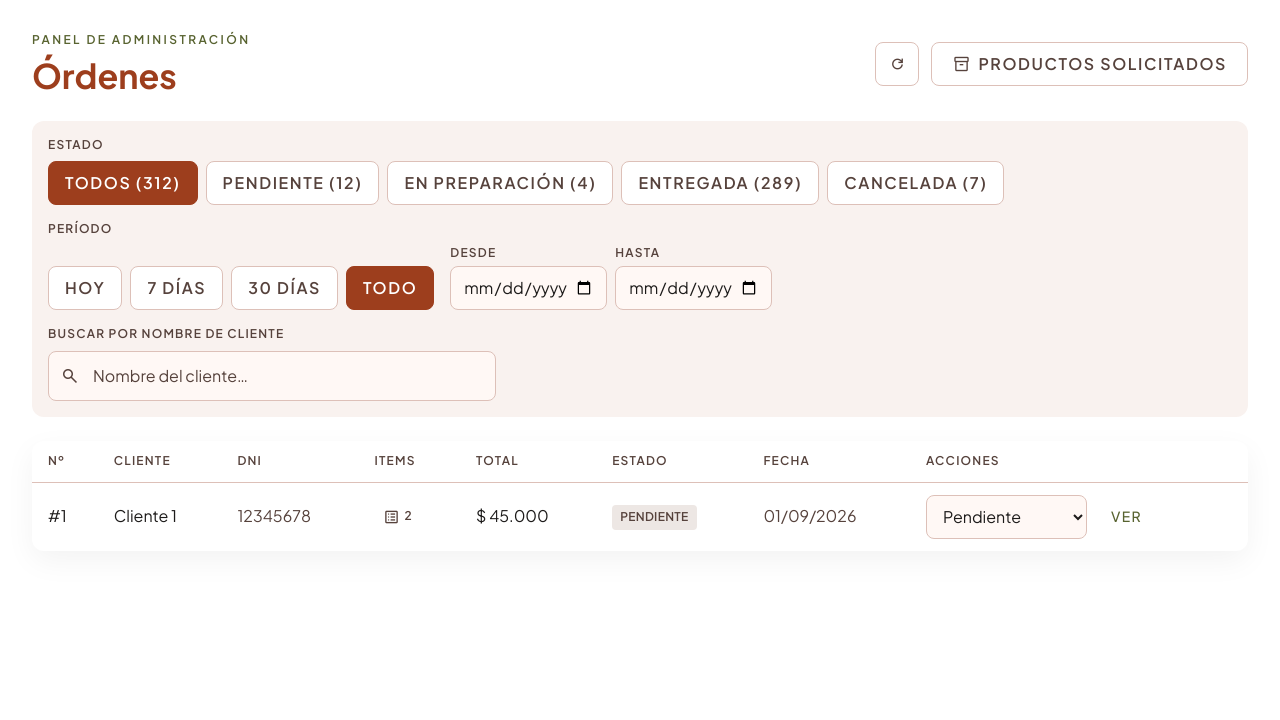
Test: AdminOrdenes — cambio de estado desde la fila › la respuesta del PATCH NO le borra el monto ni el resumen a la fila
Expected: the heading "Órdenes" is shown, [32,54,177,97]
Select "Entregada" in the dropdown named "Cambiar estado de la orden #1" at x=1006, y=516, box [926,494,1087,538]
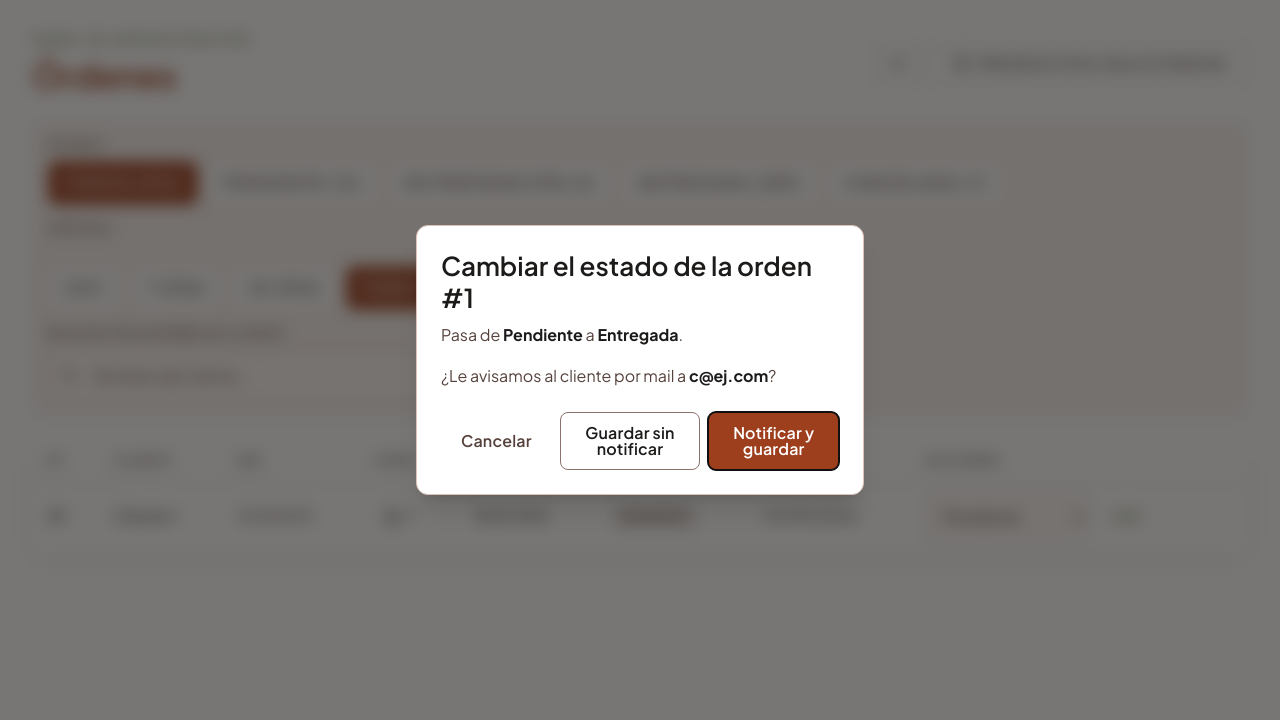
Click the button "Guardar sin notificar" at x=630, y=441, box [560,412,700,470]
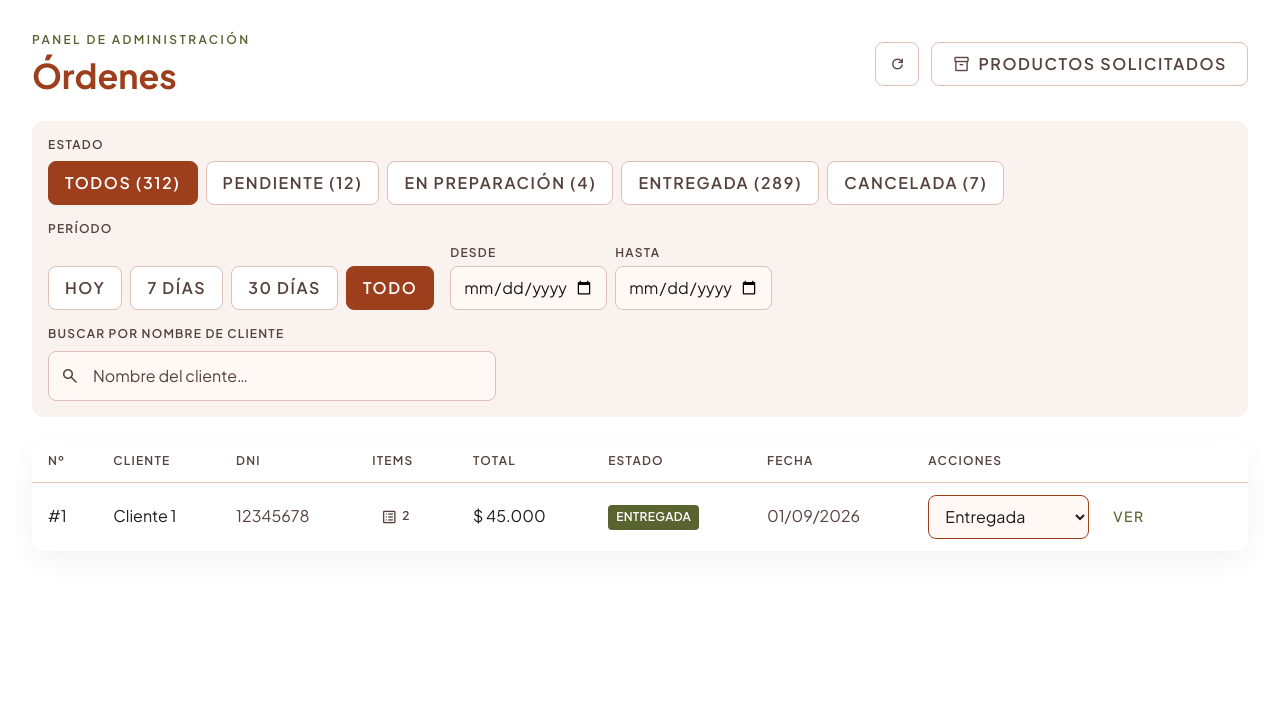
Expected: the text "$ 45.000" is shown, [457,482,592,550]
Now the dialog is gone
Click the button named "productos de la orden #1" at x=395, y=516, box [372,494,418,538]
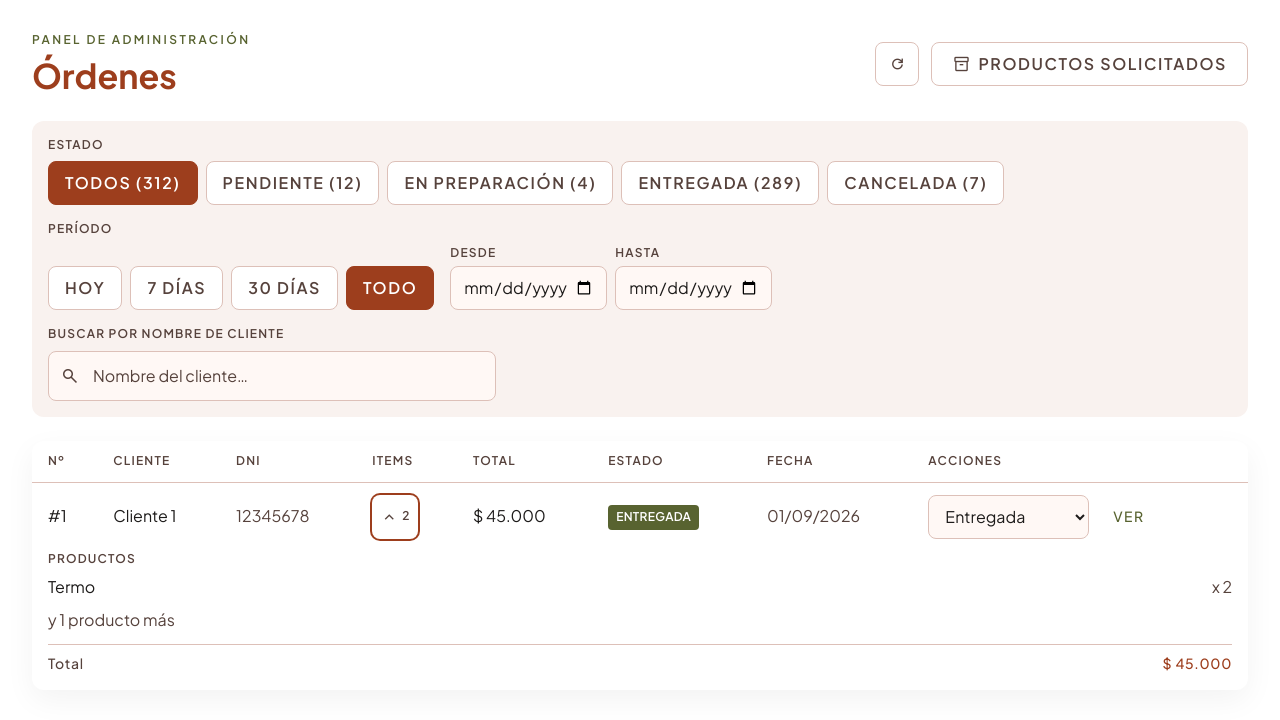
Now the text "Termo" is shown, box [48,575,95,600]
